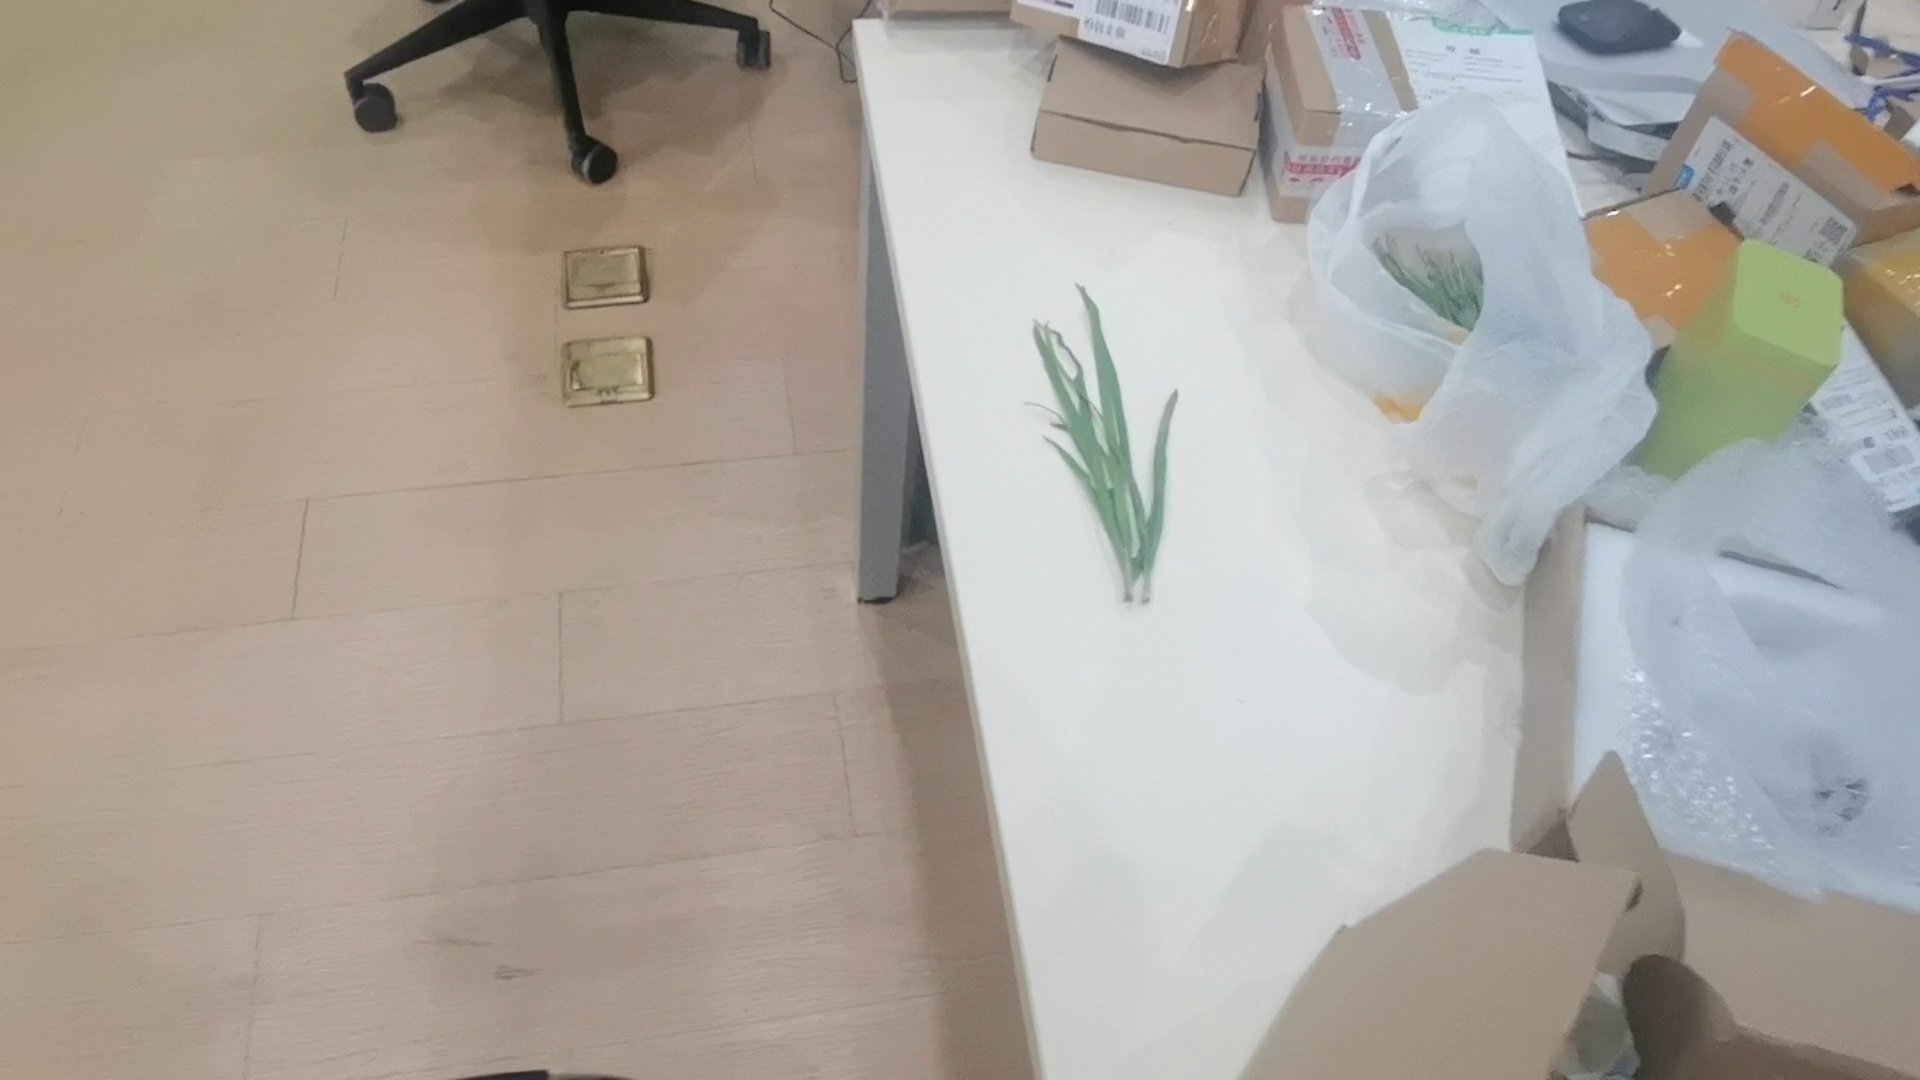chives: (1026, 262, 1189, 617)
